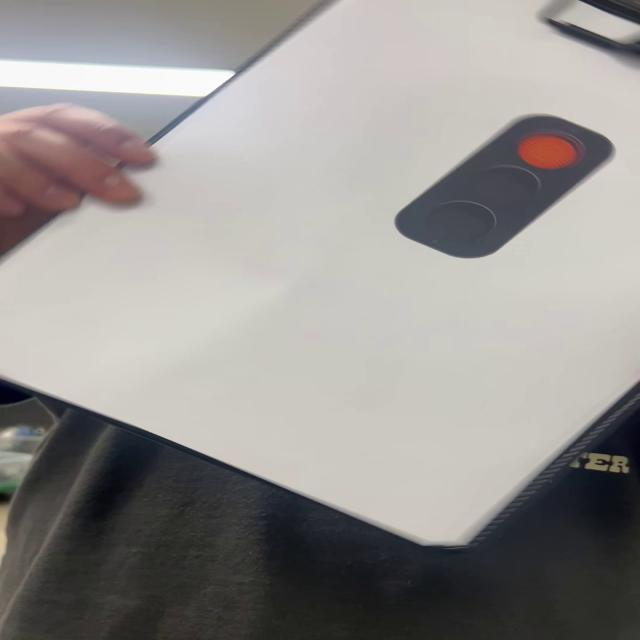red: (389, 117, 620, 265)
